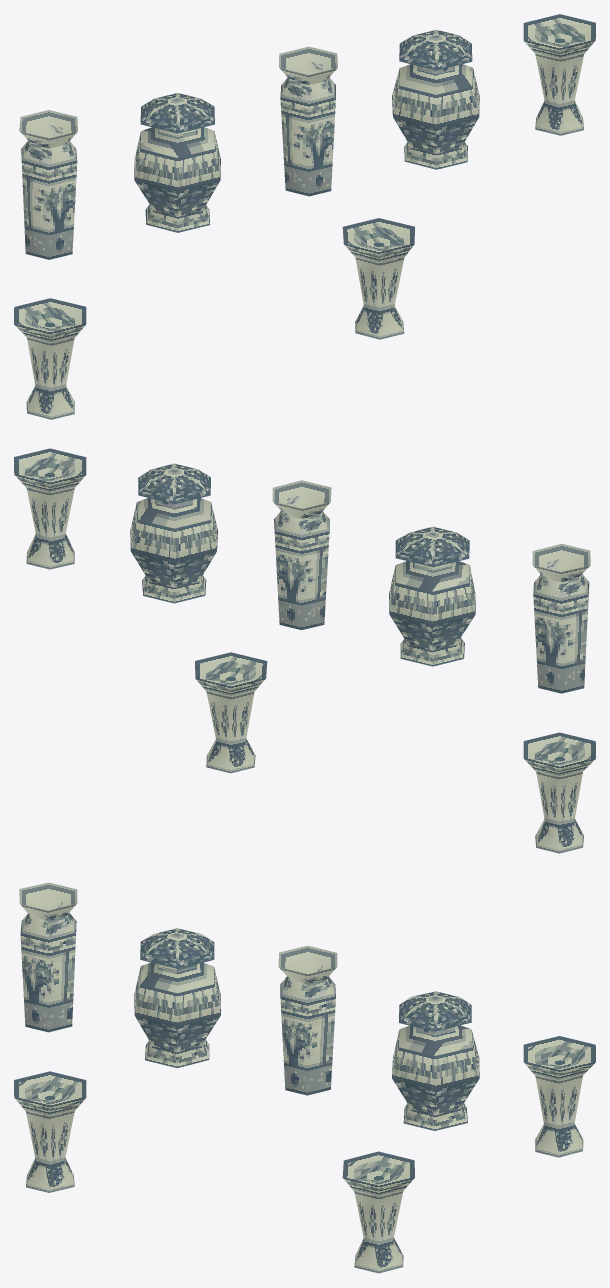
File: o_sara.glb
3 renders of one model, top to bottom at view 1: azimuth 30°, elevation 25°; view 2: azimuth 150°, elevation 25°; view 3: azimuth 330°, elevation 25°, orthographic.
Visible parts, largest first — view 1: o_sara; view 2: o_sara; view 3: o_sara.
Boxes of the visible parts, box(x1,y1,x2,y2) form: o_sara: box(14, 14, 595, 419); o_sara: box(14, 448, 595, 853); o_sara: box(14, 882, 595, 1273).
Size of the model in its own units: 450 by 210 by 58.
1 material, 1 textured.
